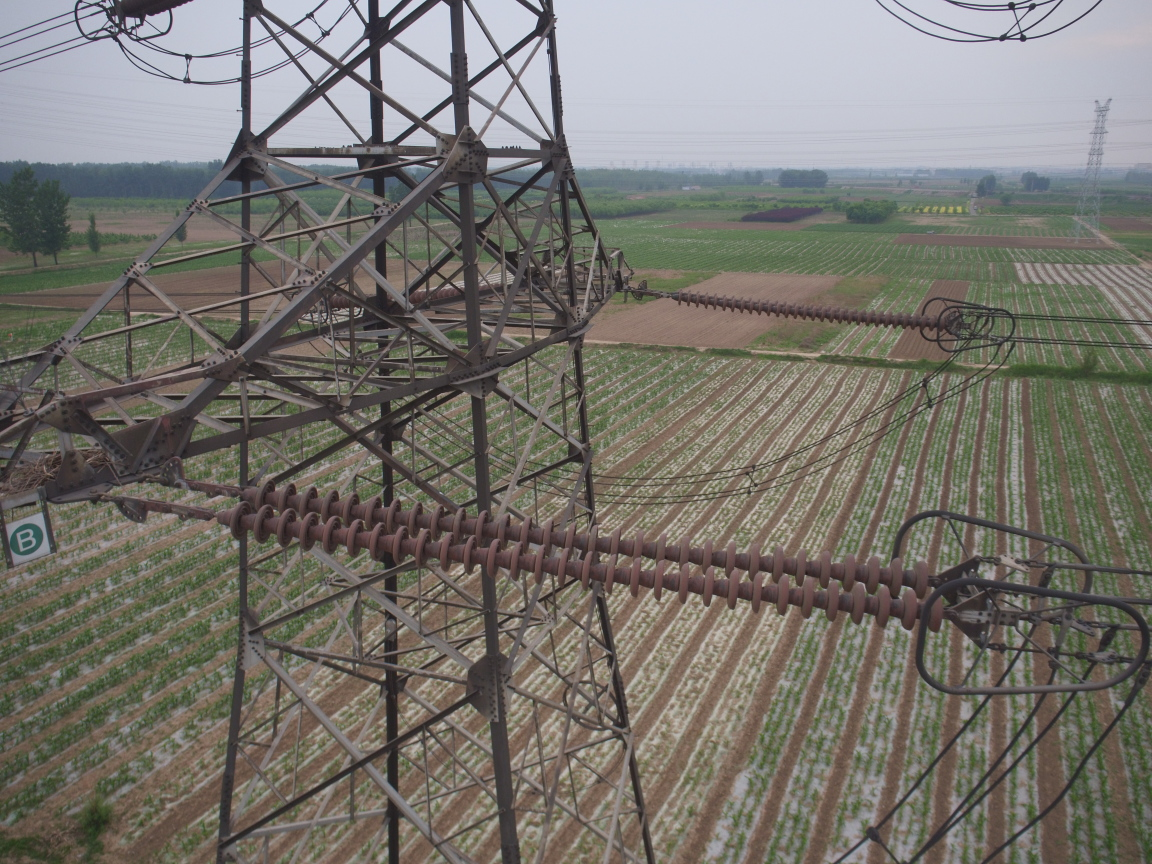insulator: (189, 476, 969, 636), (651, 284, 951, 335)
